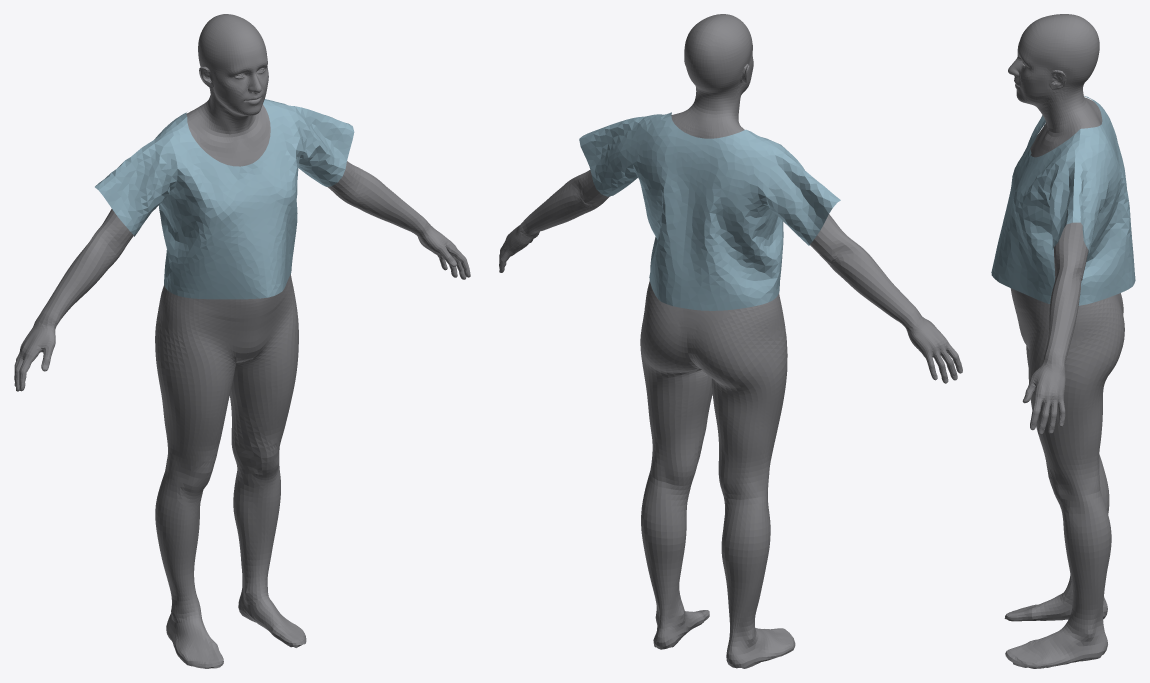
The model's file is tee.glb.
The picture shows the model from 3 angles, left to right: view 1: azimuth 30°, elevation 25°; view 2: azimuth 150°, elevation 25°; view 3: azimuth 270°, elevation 25°; orthographic projection.
Parts seen in each view (by area): view 1: body, garment; view 2: body, garment; view 3: body, garment.
Boxes of the visible parts, x1,y1,x2,y2 form: body: [14, 14, 470, 668]; garment: [95, 99, 354, 299]; body: [499, 14, 962, 668]; garment: [579, 112, 840, 310]; body: [1004, 14, 1124, 668]; garment: [991, 96, 1135, 305].
Bounding box in the file's own units: 1.31 × 1.72 × 0.3602.
